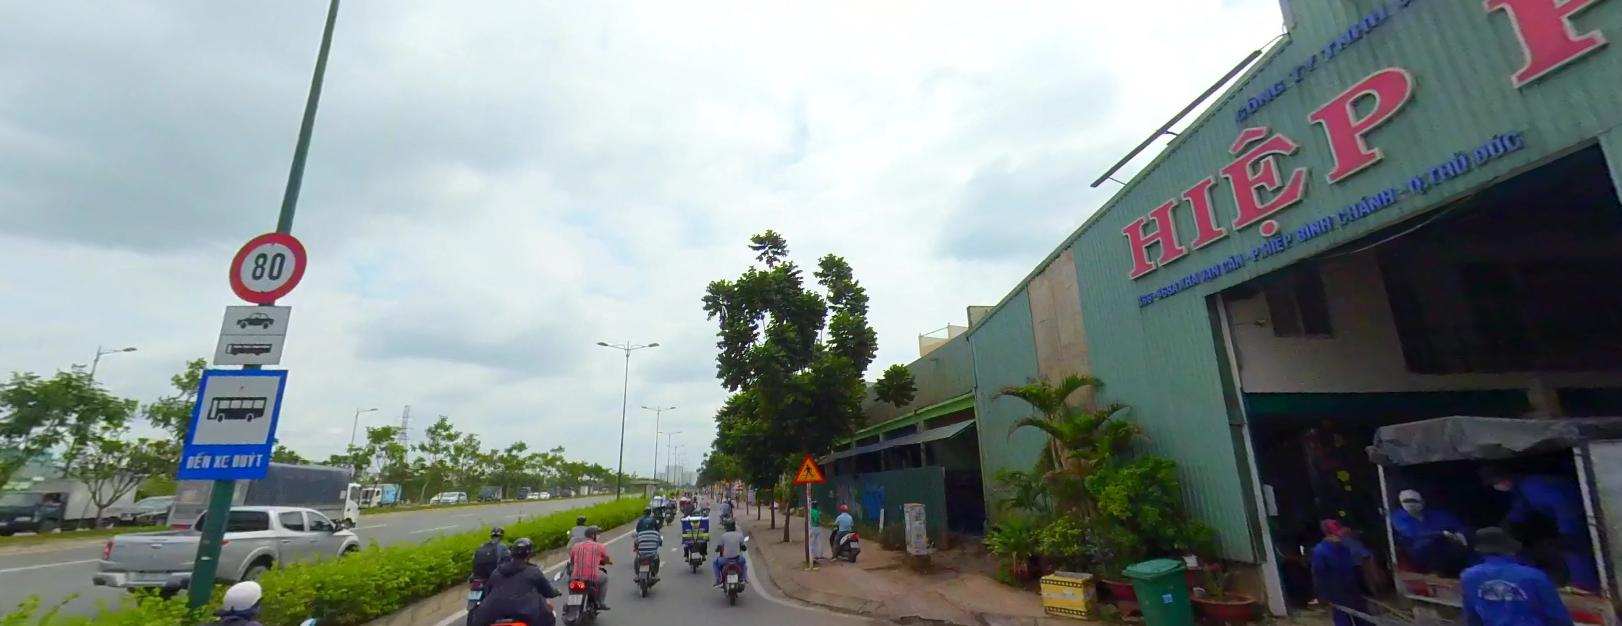Gioi han toc do: (226, 227, 307, 299)
Nguy hiem: (793, 453, 827, 482)
